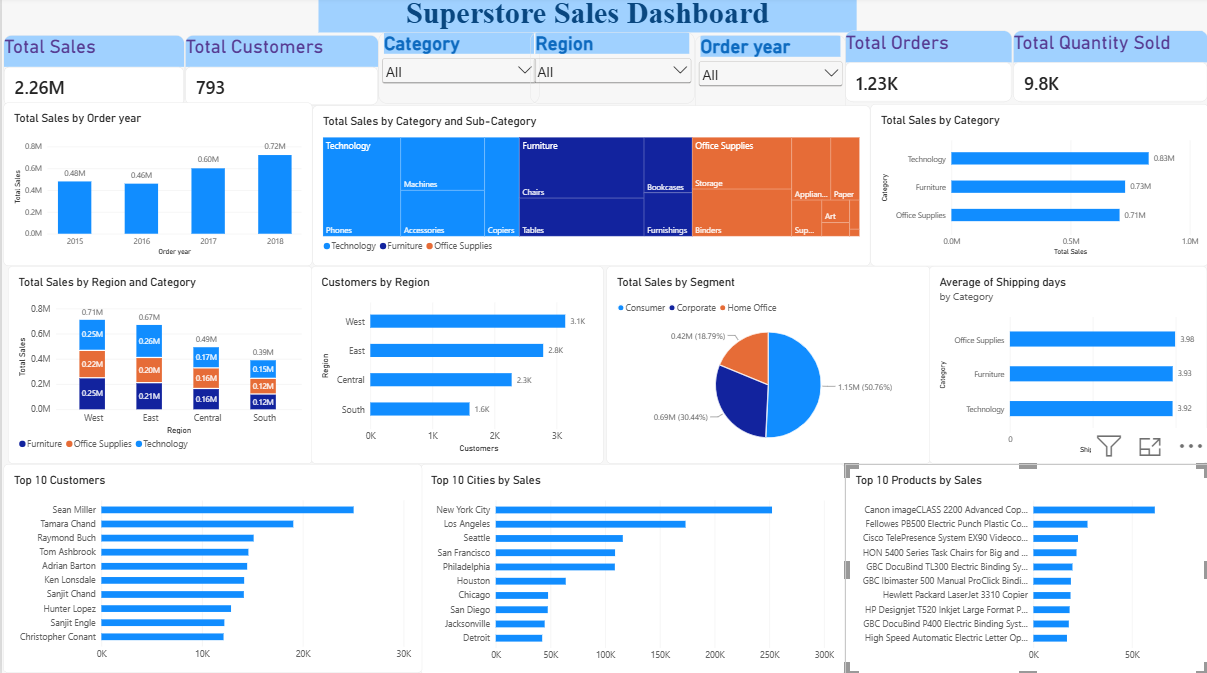

The page's visual inventory and layout, read from the dashboard file:
{"tool":"powerbi","page":{"name":"Page 1","canvas":[1920,1080],"ordinal":0},"visuals":[{"type":"textbox","box":[504,0,856,58],"z":0},{"type":"textbox","box":[10,290,280,280],"z":1000},{"type":"cardVisual","title":"Total Sales","fields":{"Data":["Sum(Cleaned data.Sales)"]},"box":[2,62,288,114],"z":2000},{"type":"cardVisual","title":"Total Customers","fields":{"Data":["Count(Cleaned data.Customer ID)"]},"box":[290,62,308,112],"z":3000},{"type":"cardVisual","title":"Total Orders","fields":{"Data":["Count(Cleaned data.Order Date)"]},"box":[1342,56,266,114],"z":4000},{"type":"cardVisual","title":"Total Quantity Sold","fields":{"Data":["CountNonNull(Cleaned data.Product Name)"]},"box":[1608,56,312,114],"z":5000},{"type":"slicer","fields":{"Values":["Cleaned data.Category"]},"box":[598,58,256,114],"z":6000},{"type":"slicer","fields":{"Values":["Cleaned data.Region"]},"box":[840,58,262,114],"z":7000},{"type":"slicer","fields":{"Values":["Cleaned data.Order year"]},"box":[1102,62,240,122],"z":8000},{"type":"columnChart","title":"Total Sales by Order year","fields":{"Category":["Cleaned data.Order year"],"Y":["Sum(Cleaned data.Sales)"]},"box":[2,170,492,342],"z":9000},{"type":"treemap","title":"Total Sales by Category and Sub-Category","fields":{"Details":["Cleaned data.Sub-Category"],"Group":["Cleaned data.Category"],"Values":["Sum(Cleaned data.Sales)"]},"box":[494,174,888,338],"z":10000},{"type":"barChart","title":"Total Sales by Category","fields":{"Category":["Cleaned data.Category"],"Y":["Sum(Cleaned data.Sales)"]},"box":[1382,172,538,340],"z":11000},{"type":"pieChart","title":"Total Sales by Segment","fields":{"Category":["Cleaned data.Segment"],"Y":["Sum(Cleaned data.Sales)"]},"box":[960,512,516,350],"z":12000},{"type":"columnChart","title":"Total Sales by Region and Category","fields":{"Category":["Cleaned data.Region"],"Series":["Cleaned data.Category"],"Y":["Sum(Cleaned data.Sales)"]},"box":[10,512,484,348],"z":13000},{"type":"barChart","title":"Customers by Region","fields":{"Category":["Cleaned data.Region"],"Y":["CountNonNull(Cleaned data.Customer ID)"]},"box":[494,512,466,348],"z":14000},{"type":"barChart","fields":{"Category":["Cleaned data.Category"],"Y":["Avg(Cleaned data.Shipping days)"]},"box":[1476,512,444,336],"z":15000},{"type":"clusteredBarChart","title":"Top 10 Cities by Sales","fields":{"Category":["Cleaned data.City"],"Y":["Sum(Cleaned data.Sales)"]},"box":[666,860,676,220],"z":16000},{"type":"barChart","title":"Top 10 Products by Sales","fields":{"Category":["Cleaned data.Product Name"],"Y":["Sum(Cleaned data.Sales)"]},"box":[1342,862,578,218],"z":17000},{"type":"barChart","title":"Top 10 Customers","fields":{"Category":["Cleaned data.Customer Name"],"Y":["Sum(Cleaned data.Sales)"]},"box":[0,862,666,216],"z":17001}]}

Visuals, with their boxes in screenshot pixels (x1, y1, x2, y2), scaled from the page's 1920x1080 canvas onto the 1207x673 screenshot:
textbox: rect(317, 0, 855, 36)
textbox: rect(6, 181, 182, 355)
"Total Sales" cardVisual: rect(1, 39, 182, 110)
"Total Customers" cardVisual: rect(182, 39, 376, 108)
"Total Orders" cardVisual: rect(844, 35, 1011, 106)
"Total Quantity Sold" cardVisual: rect(1011, 35, 1206, 106)
slicer - Cleaned data.Category: rect(376, 36, 537, 107)
slicer - Cleaned data.Region: rect(528, 36, 693, 107)
slicer - Cleaned data.Order year: rect(693, 39, 844, 115)
"Total Sales by Order year" columnChart: rect(1, 106, 311, 319)
"Total Sales by Category and Sub-Category" treemap: rect(311, 108, 869, 319)
"Total Sales by Category" barChart: rect(869, 107, 1206, 319)
"Total Sales by Segment" pieChart: rect(604, 319, 928, 537)
"Total Sales by Region and Category" columnChart: rect(6, 319, 311, 536)
"Customers by Region" barChart: rect(311, 319, 604, 536)
barChart - Cleaned data.Category x Avg(Cleaned data.Shipping days): rect(928, 319, 1206, 528)
"Top 10 Cities by Sales" clusteredBarChart: rect(419, 536, 844, 672)
"Top 10 Products by Sales" barChart: rect(844, 537, 1206, 672)
"Top 10 Customers" barChart: rect(0, 537, 419, 672)
